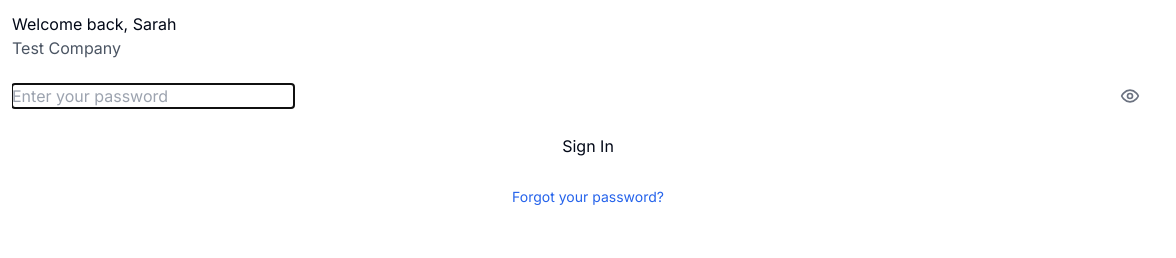
LoginForm › error handling › should handle network errors gracefully
The width and height of the screenshot is (1176, 258).
In the password field with placeholder "Enter your password": (153, 96) [12,84,294,108], type "TestPassword123"
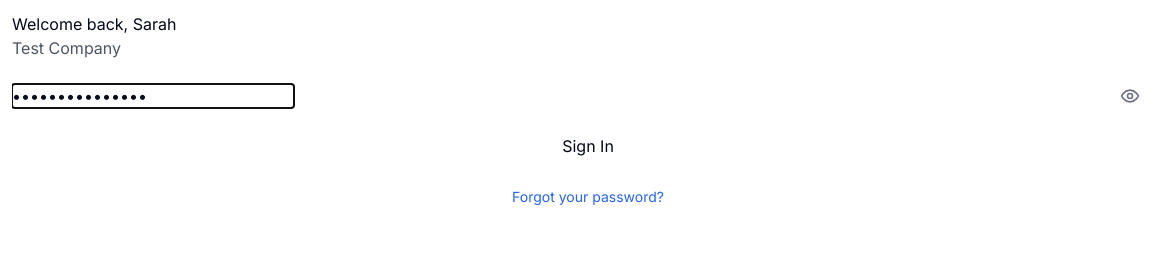
Click the button "Sign In": click(588, 146) [12,124,1164,168]
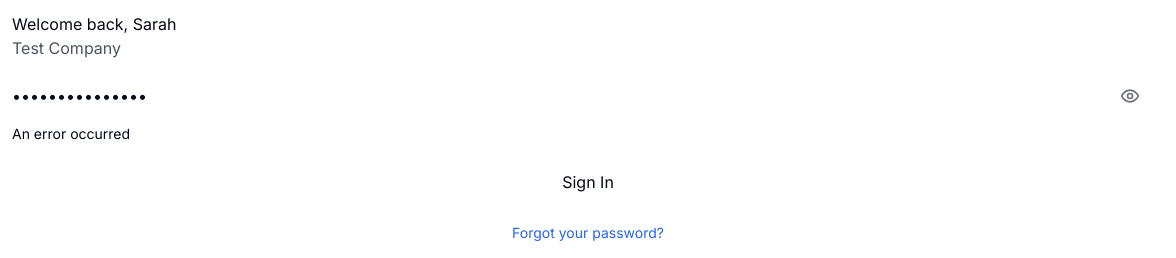
Now the message with test id "login-error" reads "An error occurred", box [12,125,130,142]
